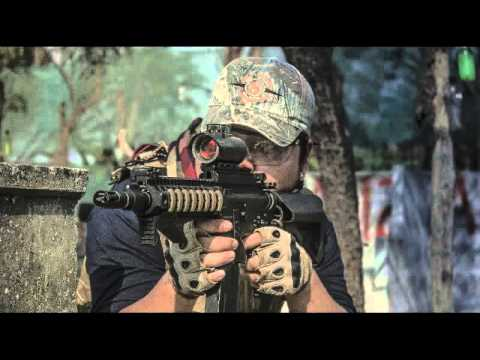gun: (90, 121, 326, 312)
